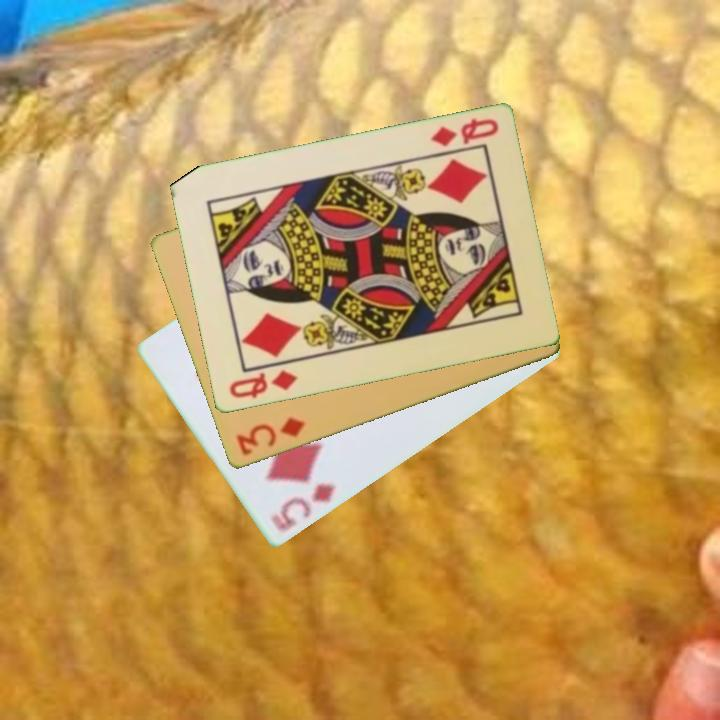3d: (233, 414, 308, 459)
5d: (267, 480, 339, 534)
Qd: (225, 366, 300, 402), (427, 115, 501, 150)
